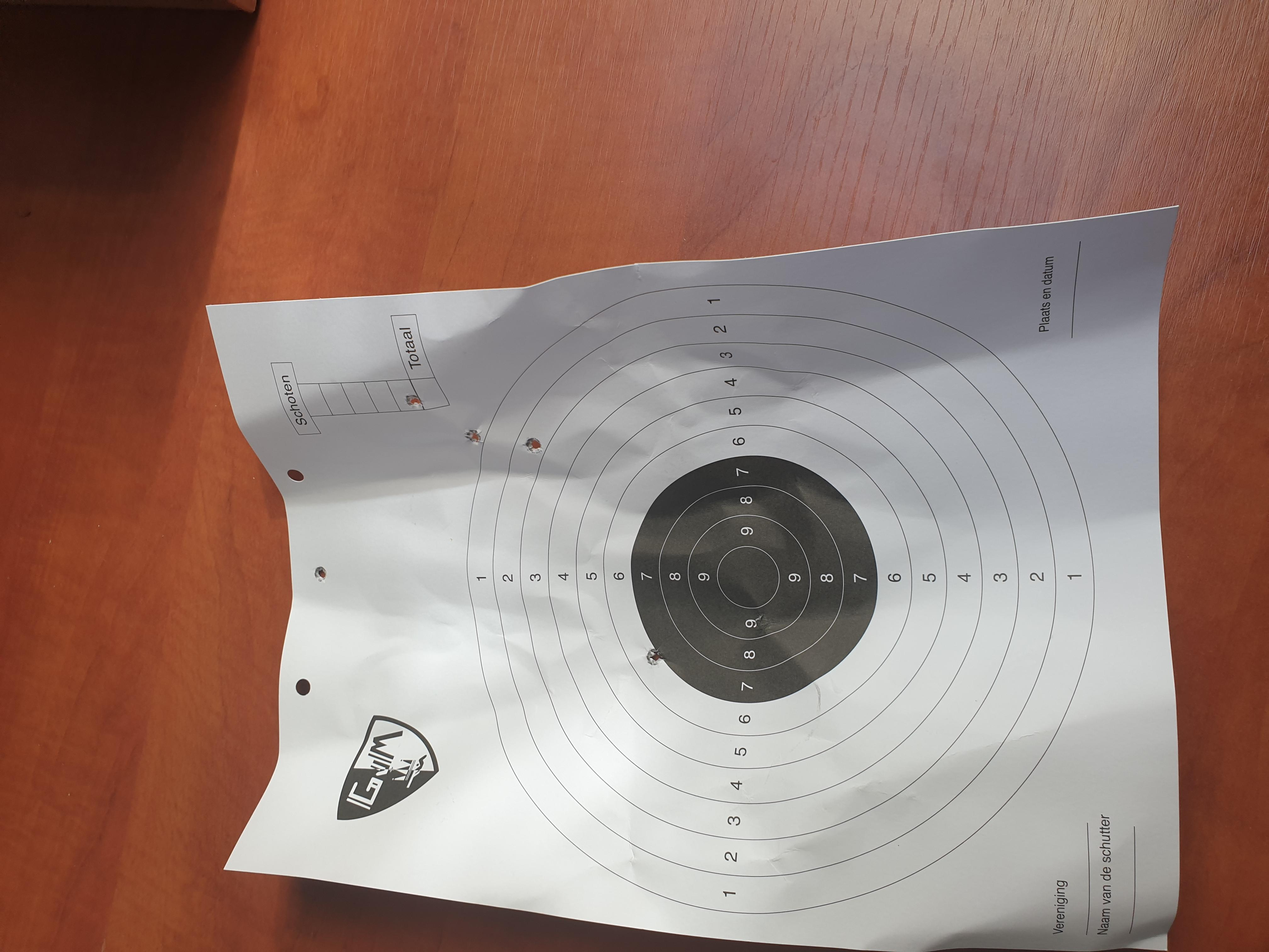hole: (726, 497, 747, 516), (785, 506, 805, 525), (604, 286, 623, 304), (844, 543, 864, 558), (942, 369, 955, 386)
